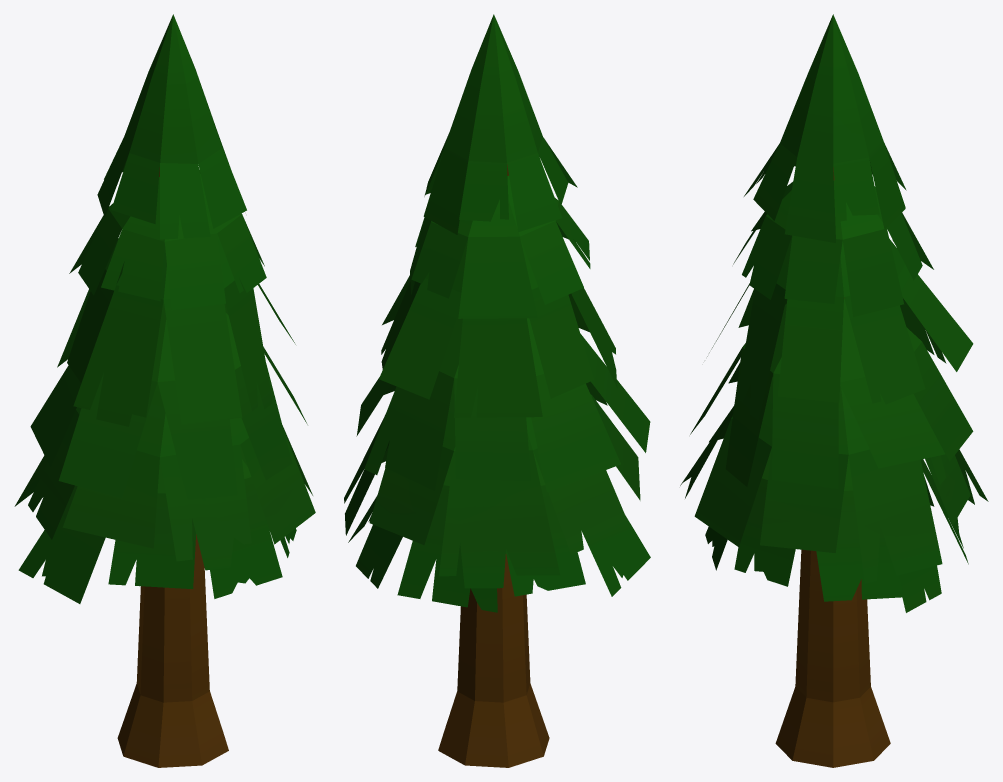
Rendered from pino.fbx.
The picture shows the model from 3 angles, left to right: view 1: azimuth 30°, elevation 25°; view 2: azimuth 150°, elevation 25°; view 3: azimuth 270°, elevation 25°; orthographic projection.
Parts seen in each view (by area): view 1: Cube.059; view 2: Cube.059; view 3: Cube.059.
Boxes of the visible parts, x1,y1,x2,y2 form: Cube.059: (14, 14, 315, 767); Cube.059: (344, 14, 650, 767); Cube.059: (680, 14, 988, 767).
Bounding box in the file's own units: 405 × 1046 × 402.
